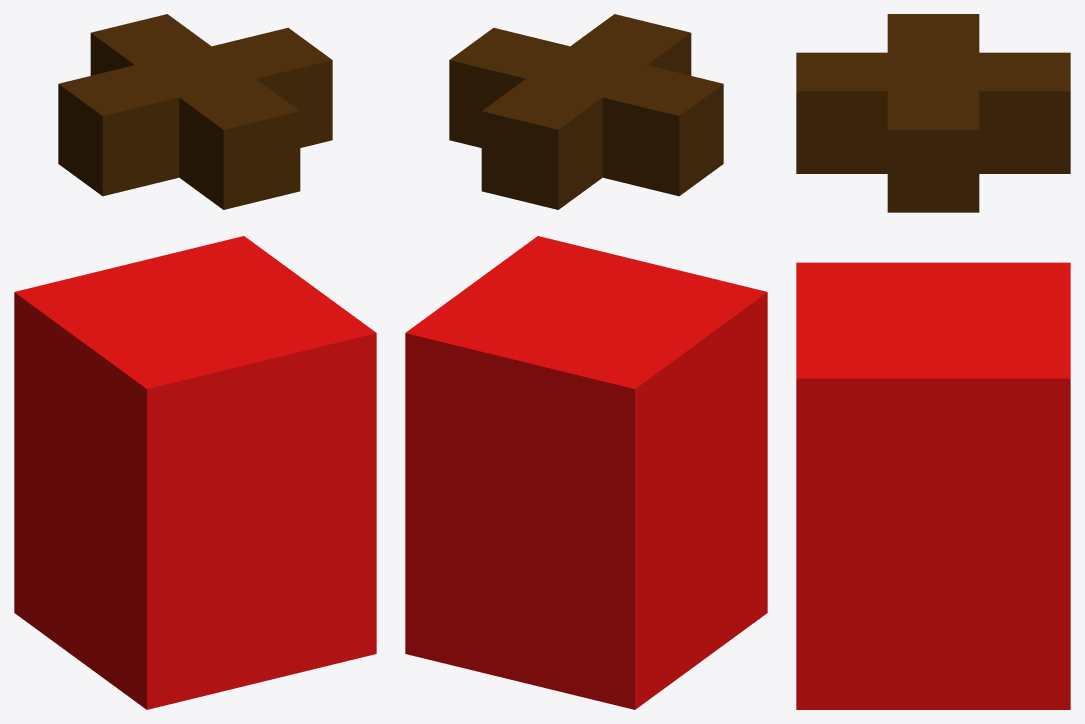
Rendered from Health potion.obj.
3 views of the same model, side by side, from view 1: azimuth 30°, elevation 25°; view 2: azimuth 150°, elevation 25°; view 3: azimuth 270°, elevation 25° (orthographic). The views are drawn at different scales.
Size of the model in its own units: 0.3 by 0.7 by 0.3.
1 material, 1 textured.
